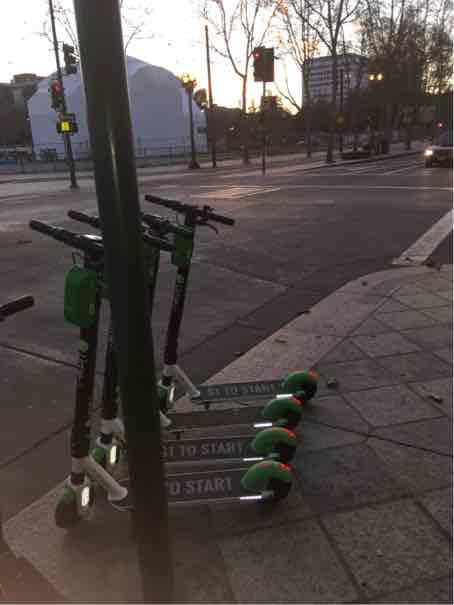too close: (33, 462, 110, 536)
